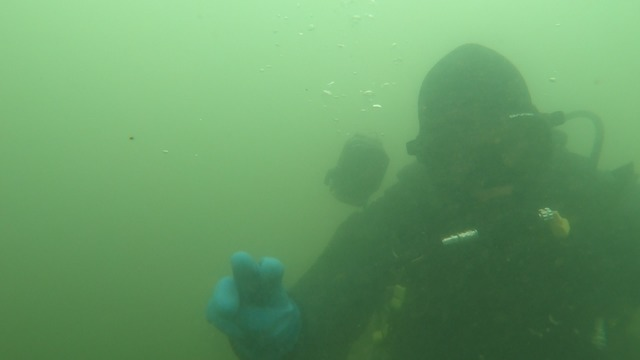Diver: (188, 27, 637, 357)
Hand: (196, 243, 319, 358)
Head: (397, 36, 578, 246)
